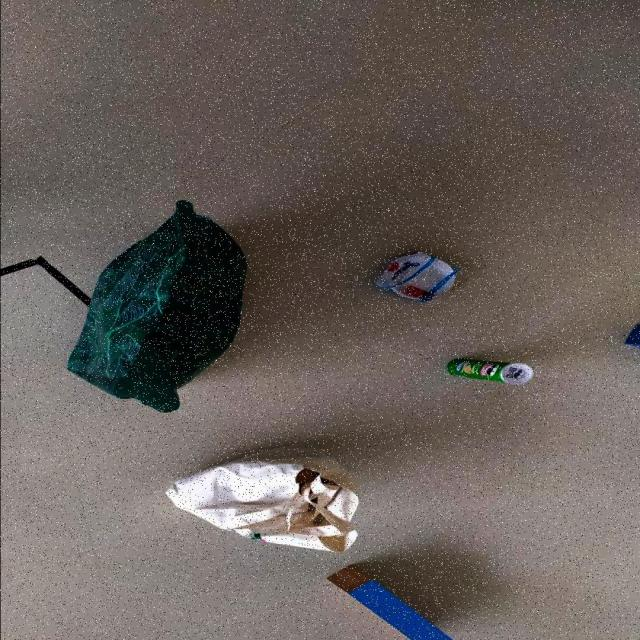Bag: (62, 198, 253, 415), (159, 442, 364, 554)
Plate: (374, 251, 458, 302)
Pringles: (446, 355, 534, 384)
